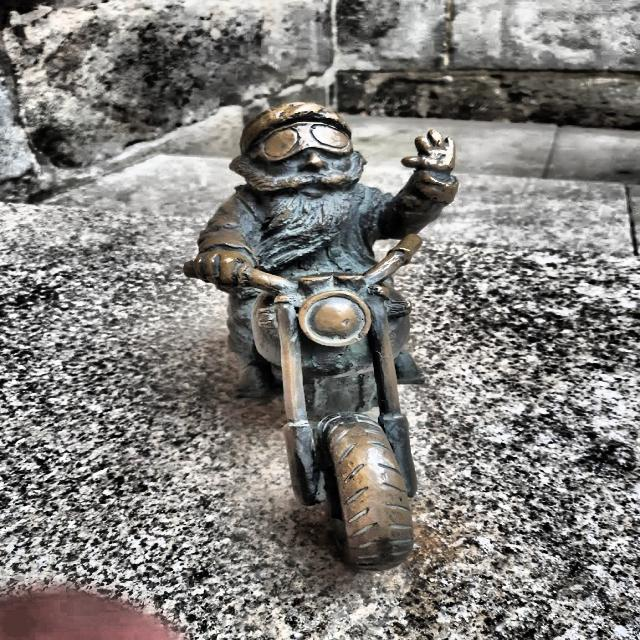Wentyl: (183, 102, 457, 569)
